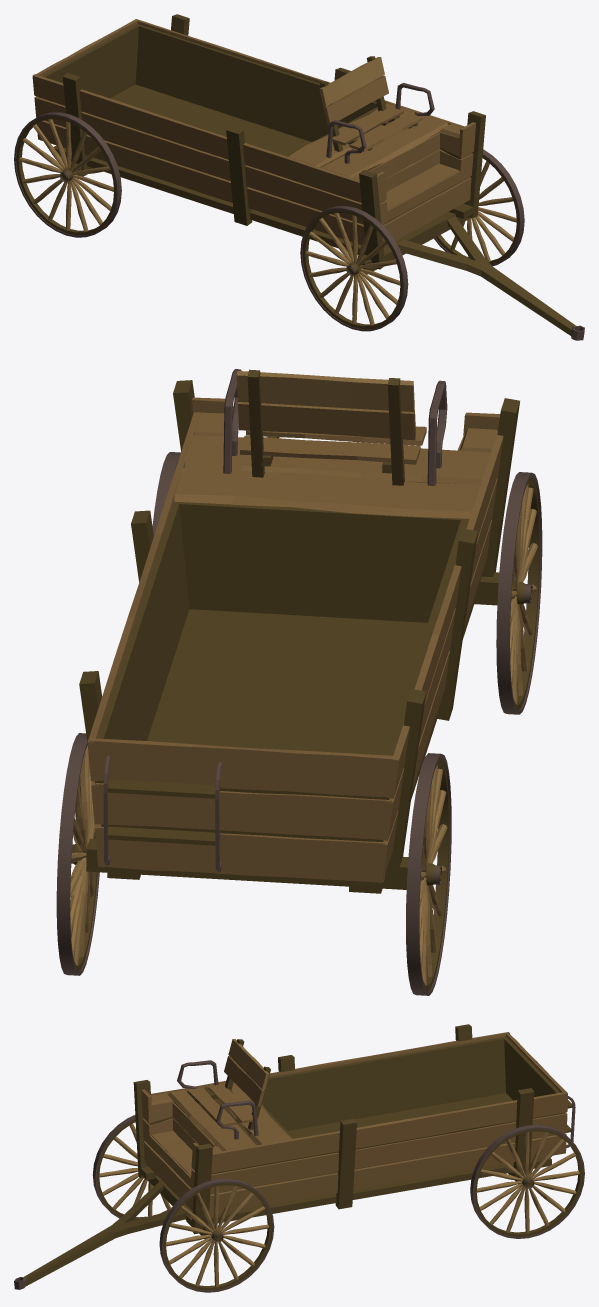
File: WagonRoofless.fbx
The picture shows the model from 3 angles, top to bottom: view 1: azimuth 30°, elevation 25°; view 2: azimuth 150°, elevation 25°; view 3: azimuth 270°, elevation 25°; orthographic projection. The views are drawn at different scales.
Parts seen in each view (by area): view 1: Cylinder.003; view 2: Cylinder.003; view 3: Cylinder.003.
Boxes of the visible parts, <box> form: Cylinder.003: <box>14,14,584,340</box>; Cylinder.003: <box>56,369,542,995</box>; Cylinder.003: <box>14,1024,584,1292</box>.
Bounding box in the file's own units: 306 × 188 × 510.
